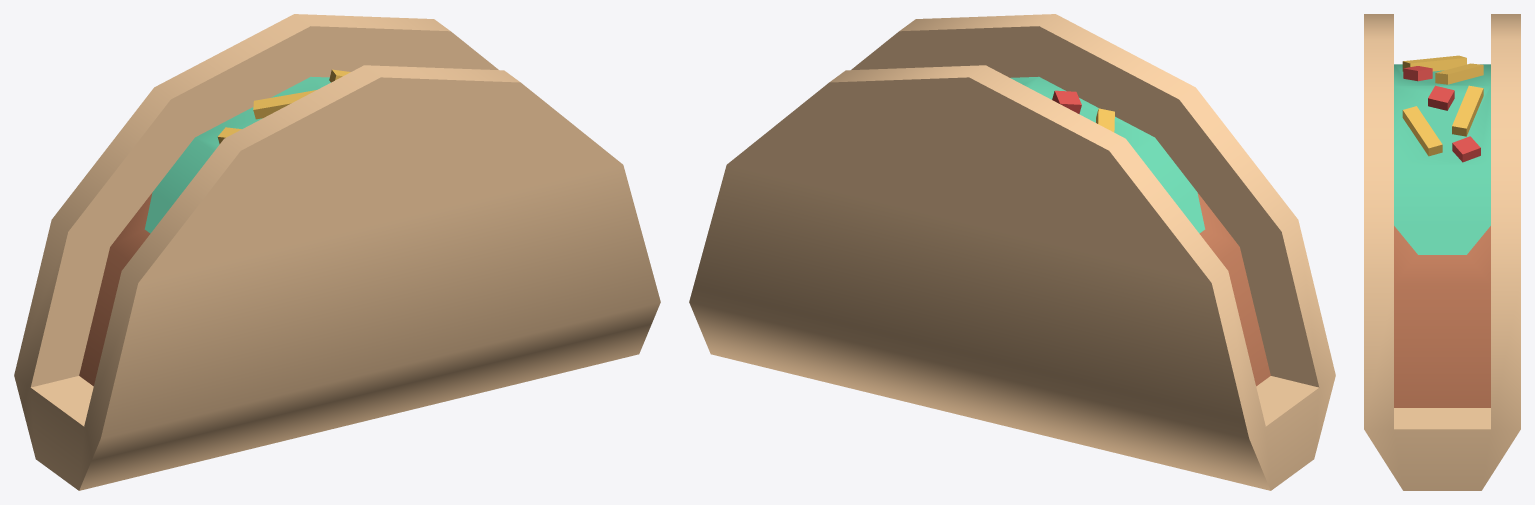
The model's file is Taco.glb.
3 renders of one model, left to right at view 1: azimuth 30°, elevation 25°; view 2: azimuth 150°, elevation 25°; view 3: azimuth 270°, elevation 25°, orthographic. The views are drawn at different scales.
Visible parts, largest first — view 1: taco; view 2: taco; view 3: taco.
Part boxes in pixels (x1,y1,x2,y2): taco: (14,14,660,490); taco: (689,14,1335,490); taco: (1364,14,1520,490).
Bounding box in the file's own units: 0.4256 × 0.2622 × 0.114.
